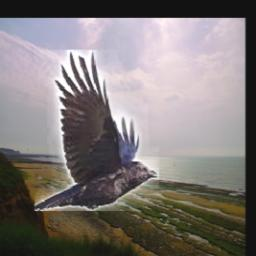Crow: (35, 50, 159, 211)
